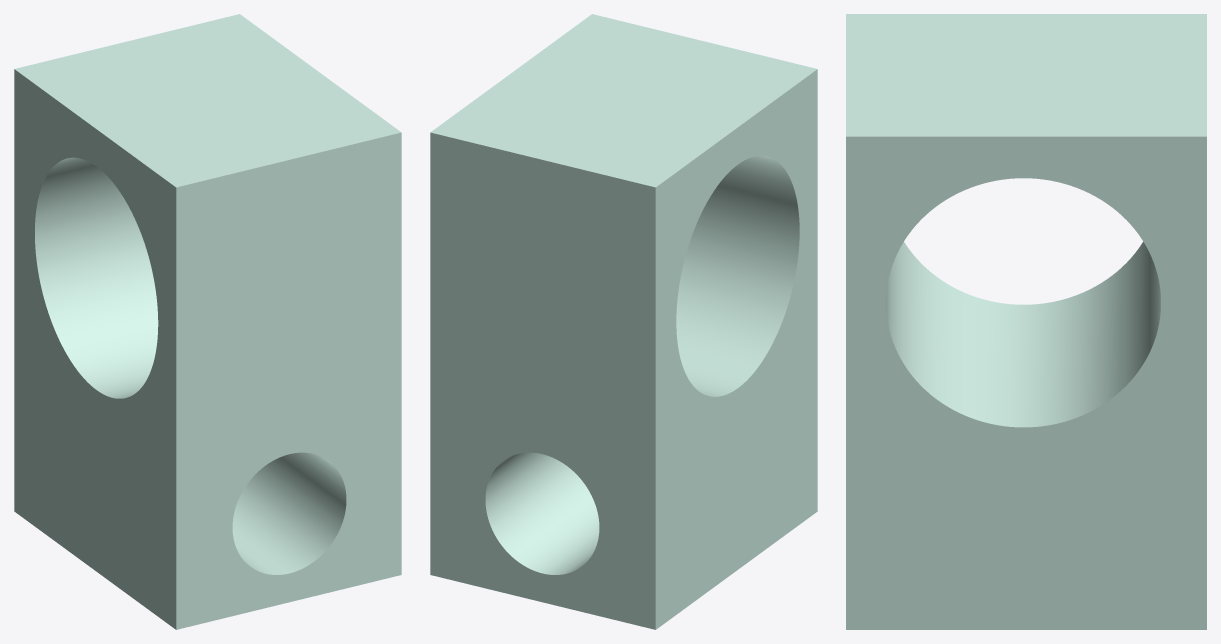
3 views of the same model, side by side, from view 1: azimuth 30°, elevation 25°; view 2: azimuth 150°, elevation 25°; view 3: azimuth 270°, elevation 25° (orthographic). The views are drawn at different scales.
Visible parts, largest first — view 1: Renderer Node; view 2: Renderer Node; view 3: Renderer Node.
Boxes of the visible parts, x1,y1,x2,y2 form: Renderer Node: [14, 14, 401, 629]; Renderer Node: [430, 14, 817, 629]; Renderer Node: [846, 14, 1206, 629].
Bounding box in the file's own units: 0.75 × 1.41 × 0.9326.
